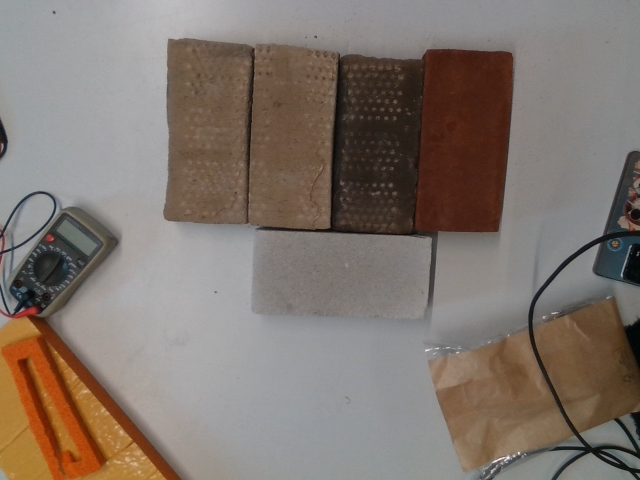brick: (160, 41, 253, 225), (248, 47, 340, 230), (420, 51, 510, 231), (251, 230, 430, 320), (336, 54, 418, 233)
